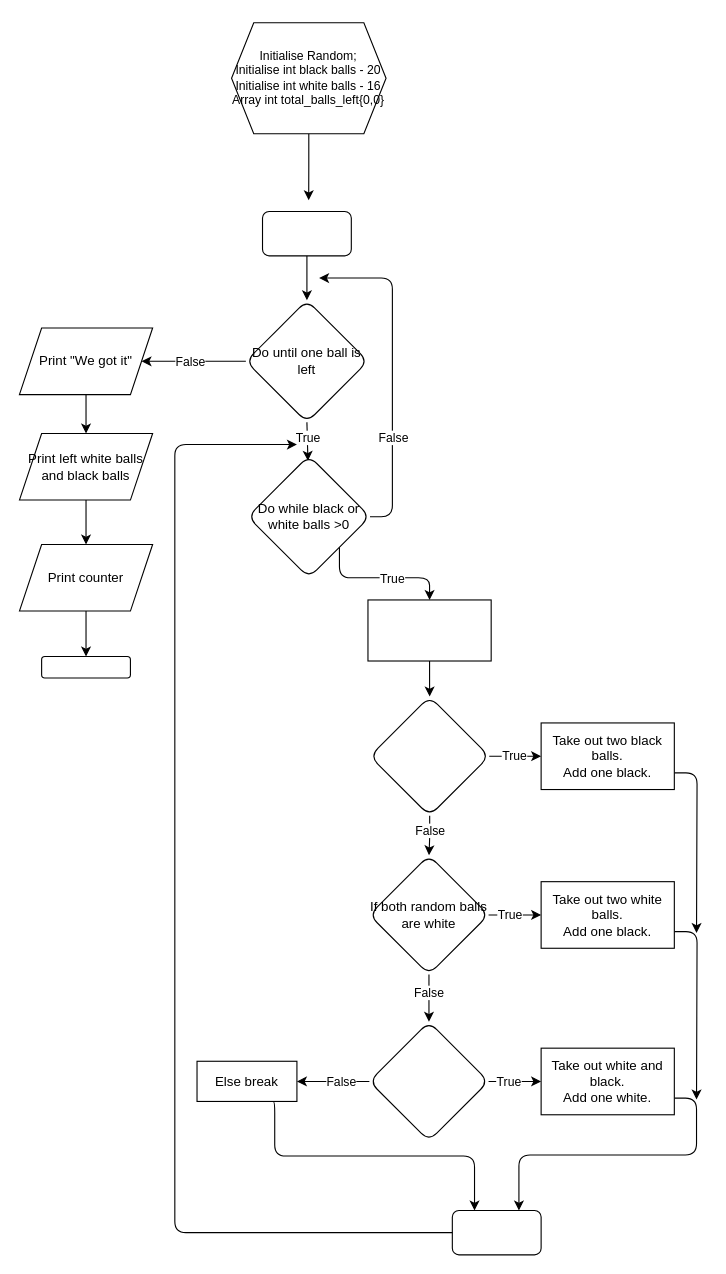
This 726x1274 diagram has some shape labels left out. The centre of each missing label's shape, as x and y in pixels:
"Break" goes at [496,1232].
"if black and white balls != 0 then" goes at [429,755].
"If one ball is white the othe black" goes at [428,1081].
"Pick random ball - number 1 and 2" goes at [429,630].
"Start" goes at [306,233].
"Stop" goes at [85,666].
